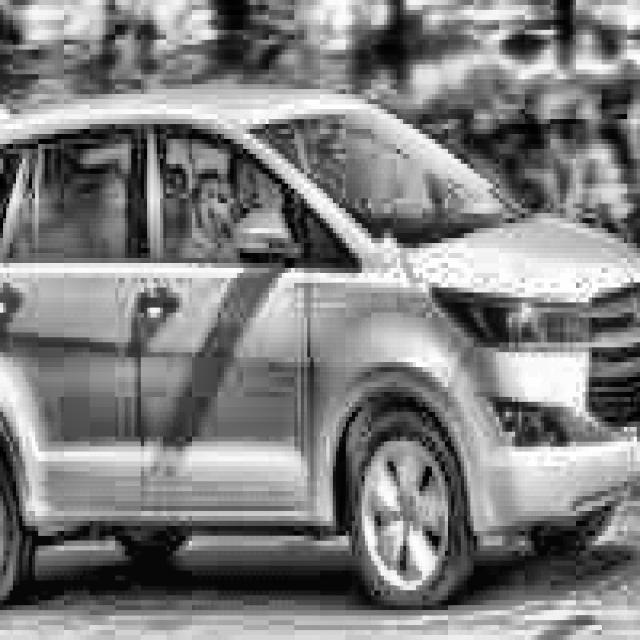light_vehicle: (0, 84, 640, 616)
